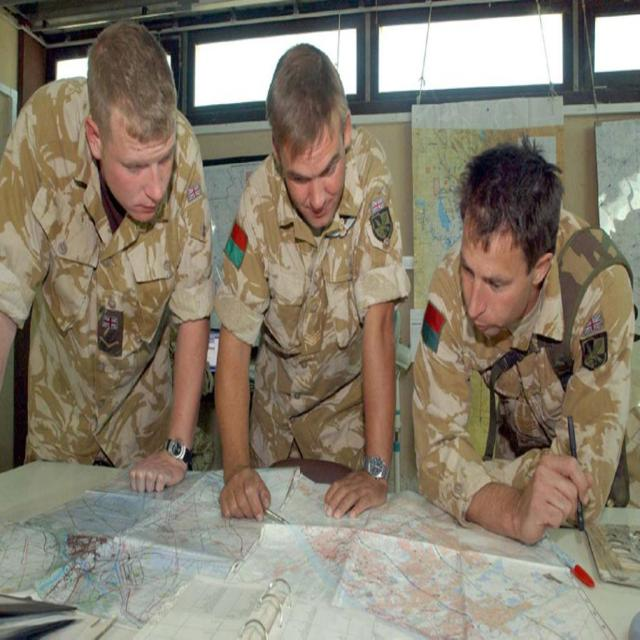Face: (450, 198, 533, 348), (101, 102, 181, 234), (290, 108, 353, 233)
